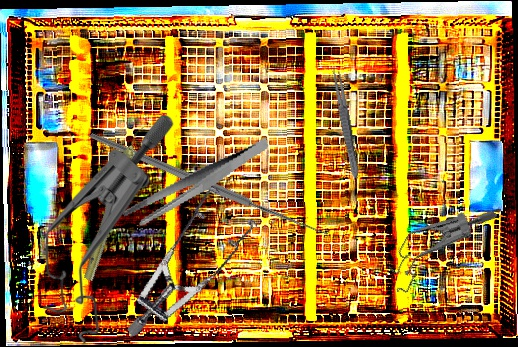Dressing Forceps: (113, 137, 280, 230), (329, 65, 362, 181)
Handpiece: (54, 124, 177, 283)
Hook Surgical: (88, 48, 339, 314)
Speculum: (41, 115, 174, 345), (93, 174, 278, 338), (378, 179, 499, 317)
